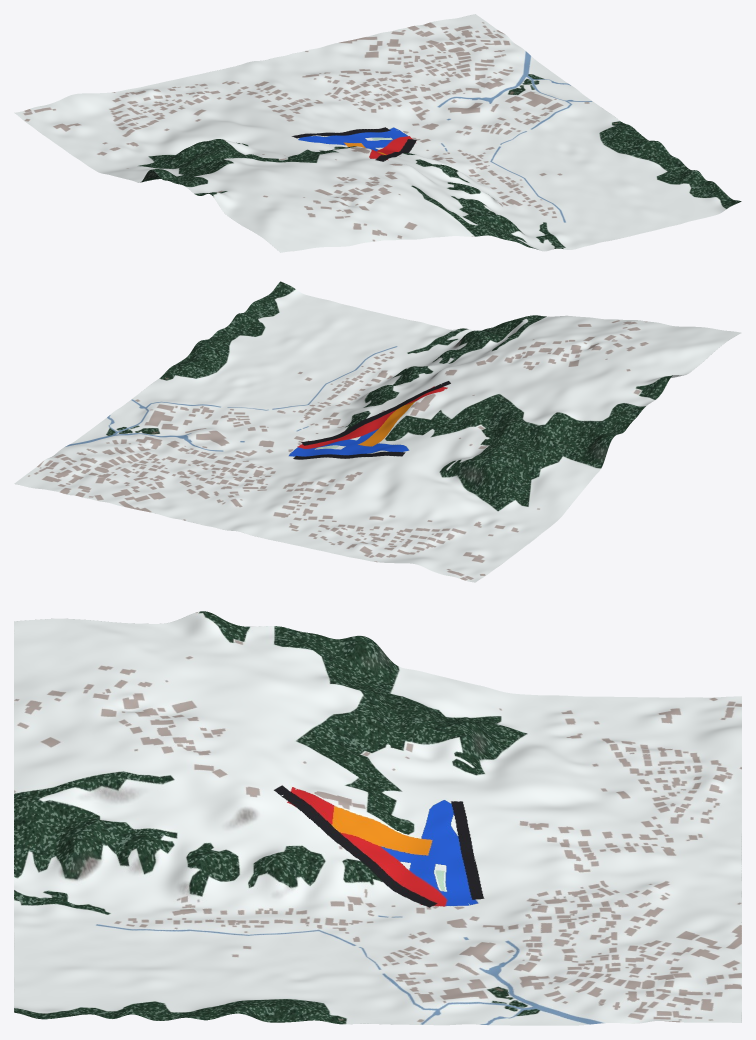
The picture shows the model from 3 angles, top to bottom: view 1: azimuth 30°, elevation 25°; view 2: azimuth 150°, elevation 25°; view 3: azimuth 270°, elevation 25°; orthographic projection. The views are drawn at different scales.
Visible parts, largest first — view 1: H4_Stinesser.glb; view 2: H4_Stinesser.glb; view 3: H4_Stinesser.glb.
Boxes of the visible parts, x1,y1,x2,y2 form: H4_Stinesser.glb: (14,14,741,252); H4_Stinesser.glb: (14,281,741,582); H4_Stinesser.glb: (14,611,741,1025).
Size of the model in its own units: 1200 by 194 by 1200.
1 material, 1 textured.
